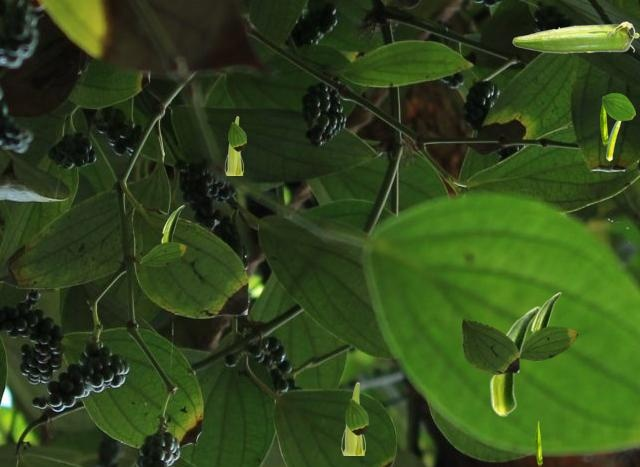okra: (489, 306, 539, 416), (512, 21, 638, 52), (530, 292, 560, 360), (340, 382, 364, 454), (224, 116, 242, 174), (161, 205, 183, 242), (606, 120, 621, 160), (600, 105, 607, 145), (535, 421, 541, 465)
